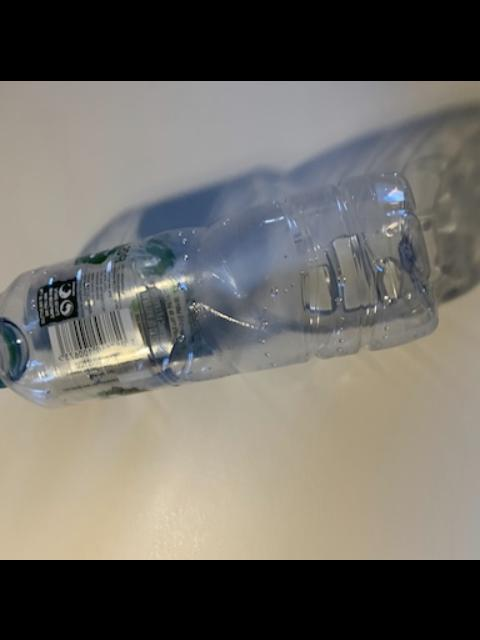plastic: (0, 171, 437, 408)
